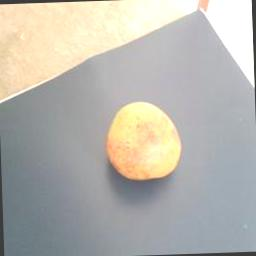Mango Unripe: (98, 88, 192, 196)
